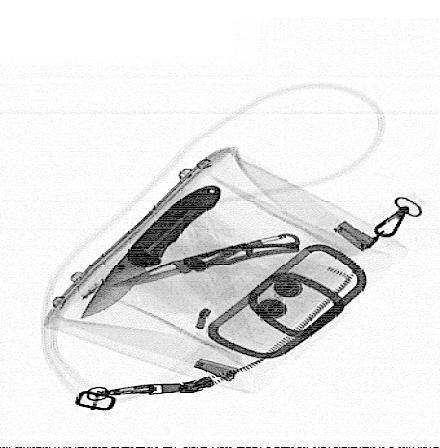Knife: (80, 184, 222, 320), (108, 233, 302, 288)
